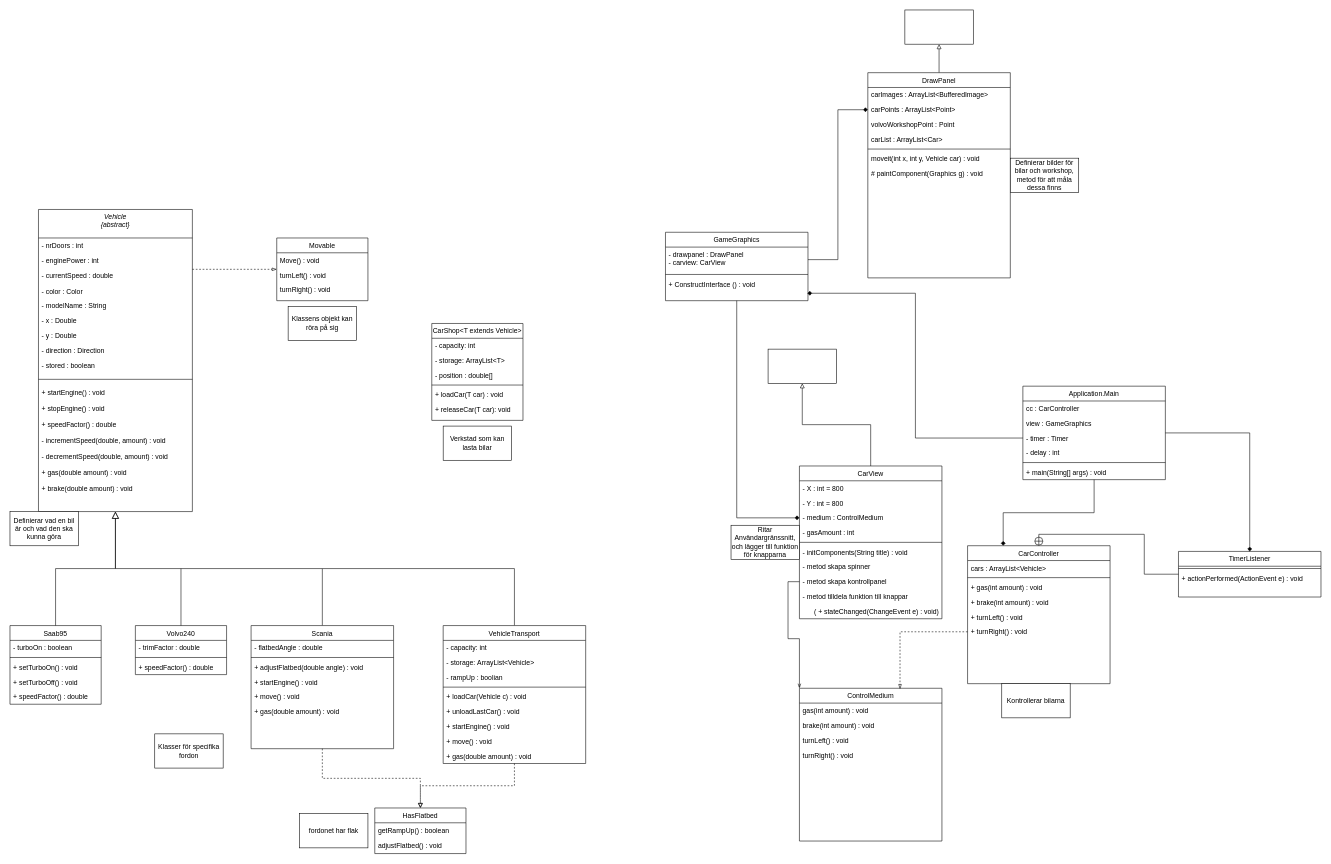
This 1331x864 diagram has some shape labels left out. Each missing label, with the centre of its shape:
"JFrame" belongs at pixel 802 366.
"JPanel" belongs at pixel 938 26.
